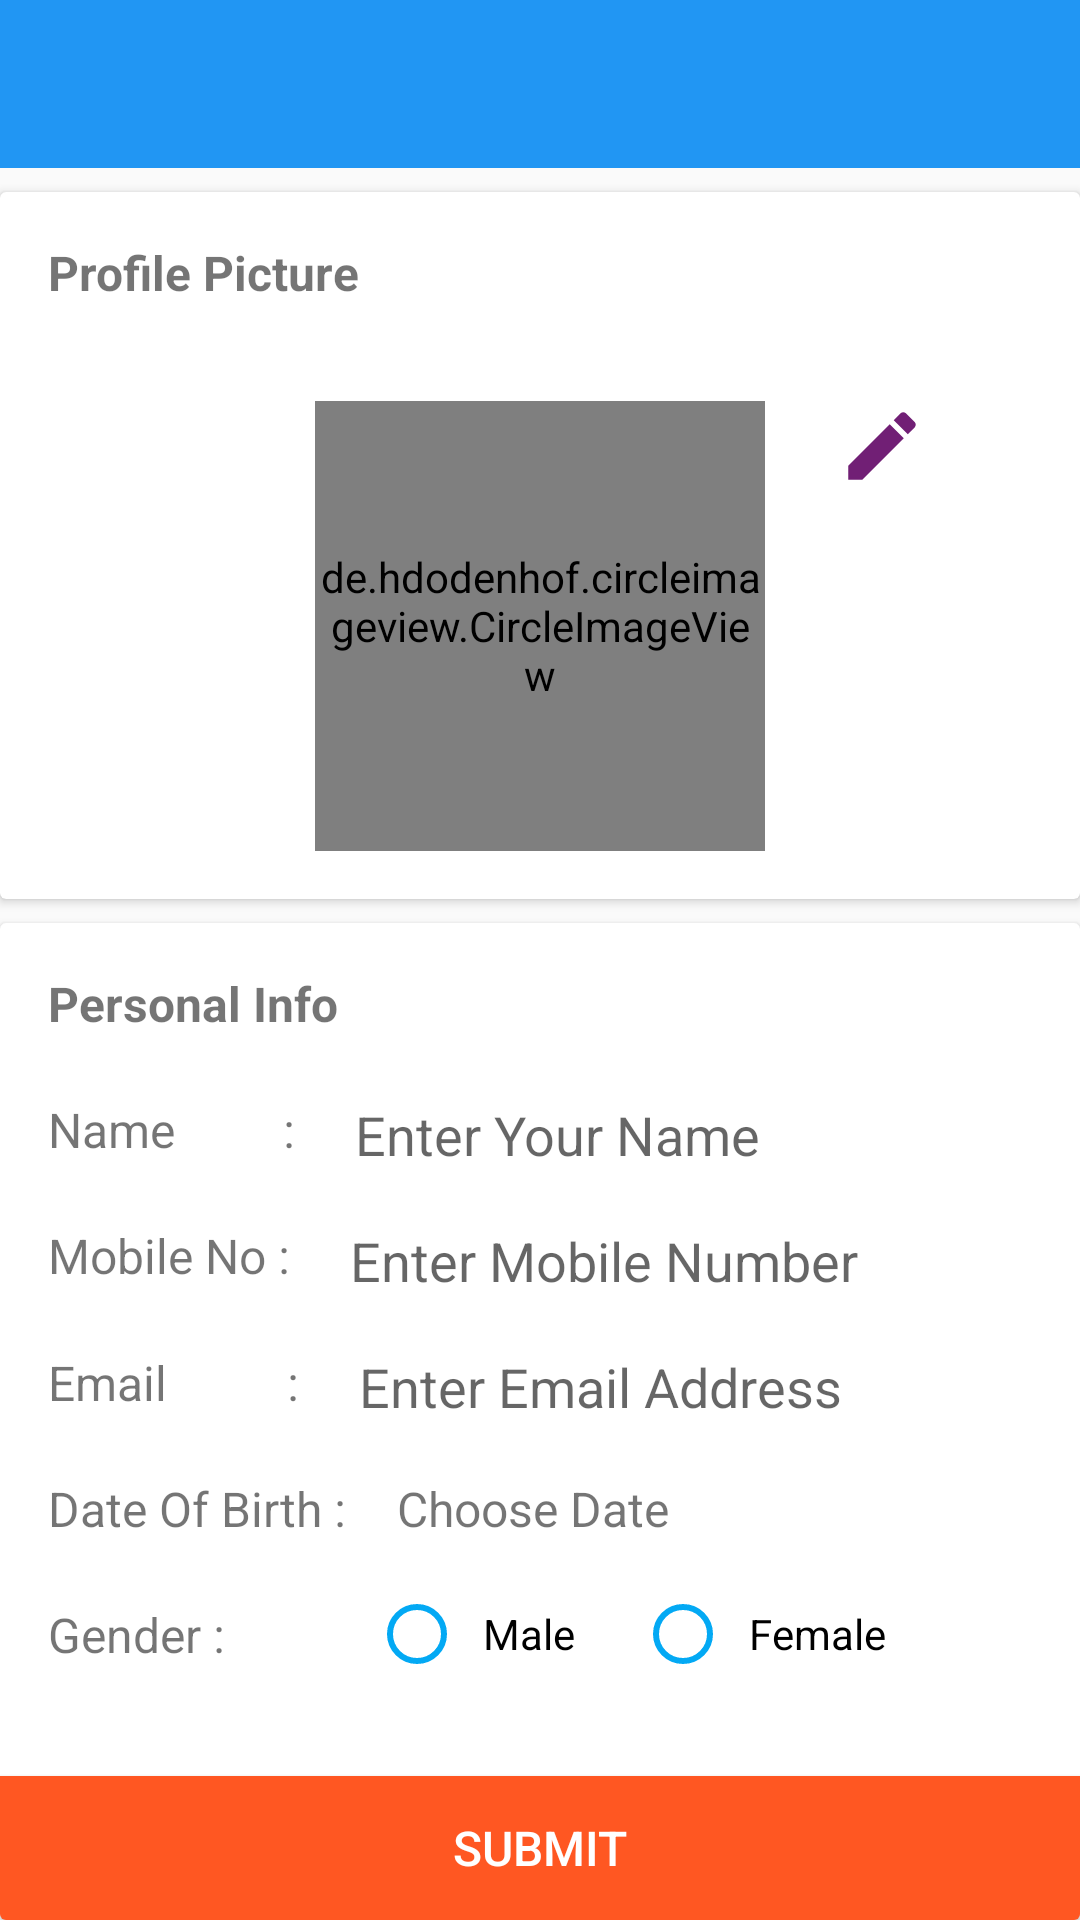

Icon click points for this 1080 × 1920 phone screenshot, format (x=x, y=y):
edit: (x=882, y=446)
